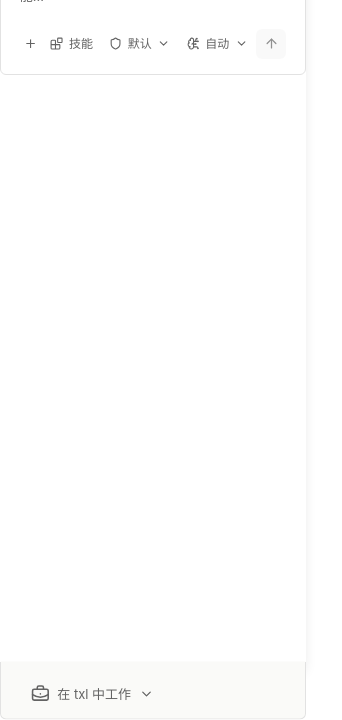
Test case: HomeTaskComposerCard › opens a workspace dropdown with recent folders and choose-different action
The width and height of the screenshot is (342, 720).
(page scrolled)
Press the mouse on the button with aria-label "选择工作目录" at point(92, 694), box [20, 677, 165, 711]
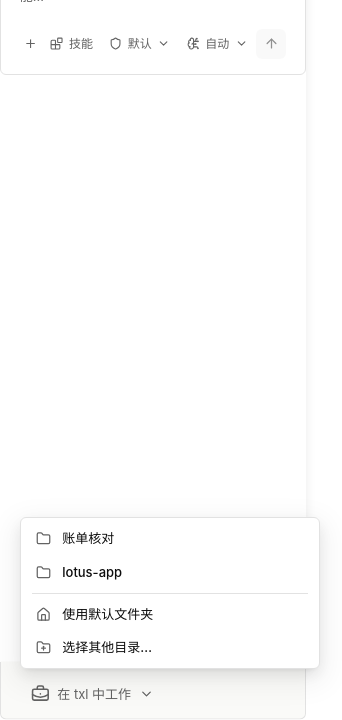
Check: the menu item "账单核对" is shown, box [36, 530, 114, 546]
Check: the menu item "lotus-app" is shown, box [36, 564, 122, 580]
Check: the menu item "选择其他目录…" is shown, box [36, 639, 152, 655]
